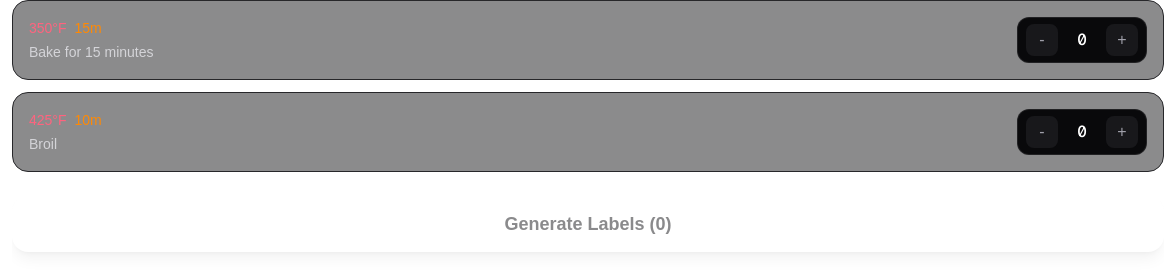
Scenario: PrintUI Component › Generate Labels button is enabled after incrementing copies
What coordinates should you click on to do the following:
click the button "+" in the row of "Bake for 15 minutes"
I would click on:
 (1122, 40)
Its box is x1=1106 y1=24 x2=1138 y2=56.
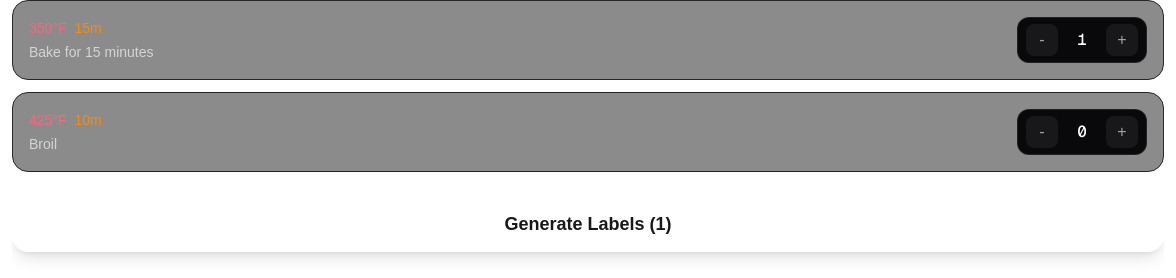
Expected: the button "Generate Labels (1)" is enabled, x1=12 y1=196 x2=1164 y2=252
